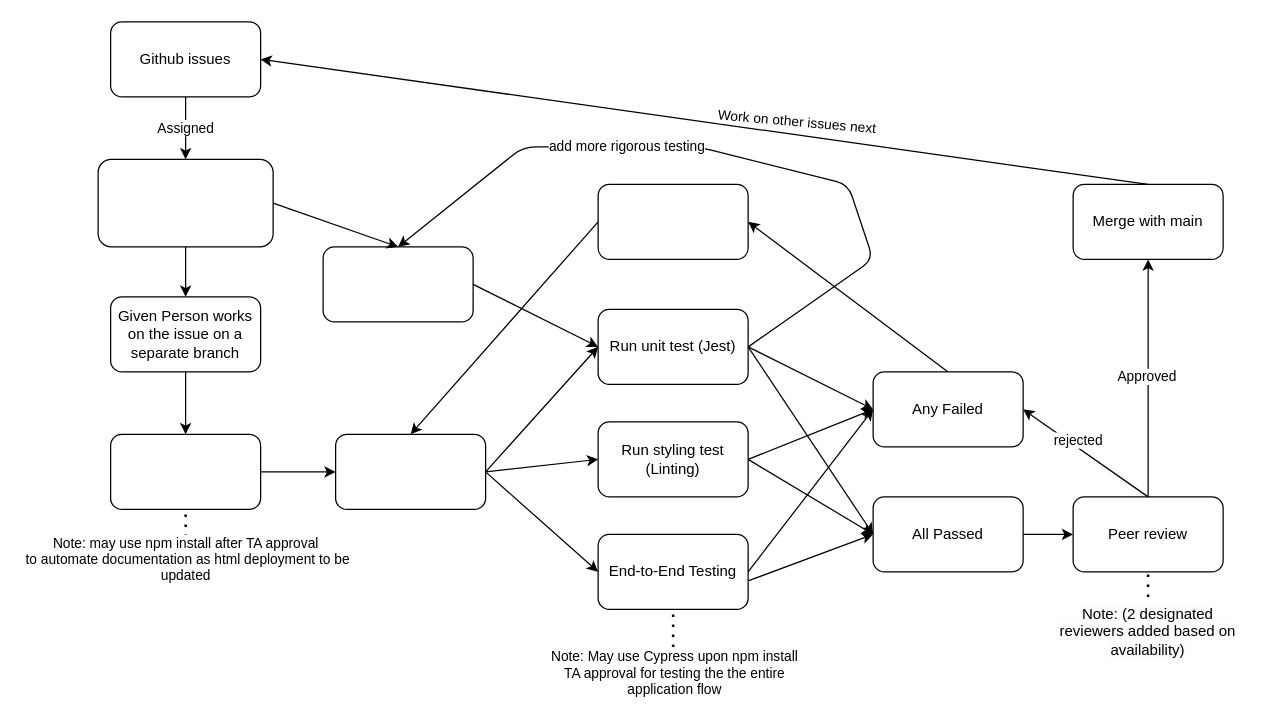
This 1263x719 diagram has some shape labels left out. The shapes that lost their labels are listed below. From the top down, each one's centre as x and y in pixels, then its label:
At point 185,202: "Each issue get's assigned to a person based on the backlog task list".
At point 672,221: "Fix the code".
At point 397,284: "Creating/Updating tests for that given task/feature".
At point 185,471: "Documentation (JSDocs)".
At point 410,471: "Pull request when done".
